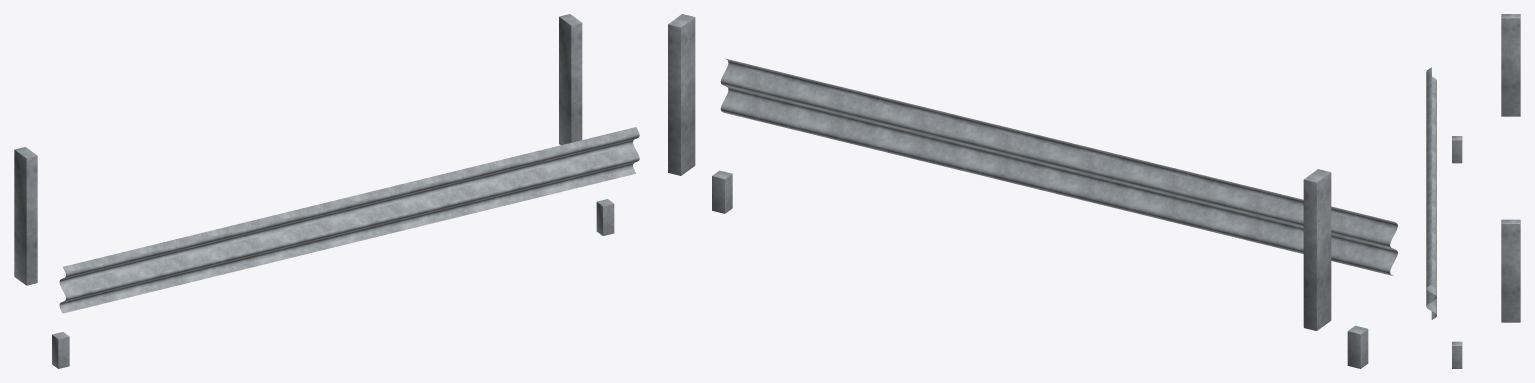
The model's file is PAV-SIN-003_anim.glb.
The picture shows the model from 3 angles, left to right: view 1: azimuth 30°, elevation 25°; view 2: azimuth 150°, elevation 25°; view 3: azimuth 270°, elevation 25°; orthographic projection. The views are drawn at different scales.
Parts seen in each view (by area): view 1: PAV-SIN-003_anim2, PAV-SIN-003_anim0, PAV-SIN-003_anim1; view 2: PAV-SIN-003_anim2, PAV-SIN-003_anim0, PAV-SIN-003_anim1; view 3: PAV-SIN-003_anim0, PAV-SIN-003_anim2, PAV-SIN-003_anim1.
Part boxes in pixels (x1,y1,x2,y2): PAV-SIN-003_anim2: (59,127,639,313); PAV-SIN-003_anim0: (14,14,582,285); PAV-SIN-003_anim1: (52,199,614,368); PAV-SIN-003_anim2: (720,58,1397,276); PAV-SIN-003_anim0: (668,14,1331,330); PAV-SIN-003_anim1: (712,170,1368,368); PAV-SIN-003_anim0: (1501,14,1520,322); PAV-SIN-003_anim2: (1426,67,1436,319); PAV-SIN-003_anim1: (1452,136,1462,368).
Size of the model in its own units: 4 by 1.25 by 0.735.
1 material, 1 textured.
